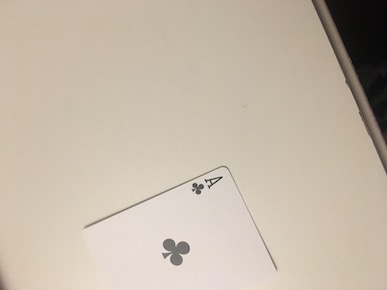AceOfClubs: (78, 164, 279, 290)
